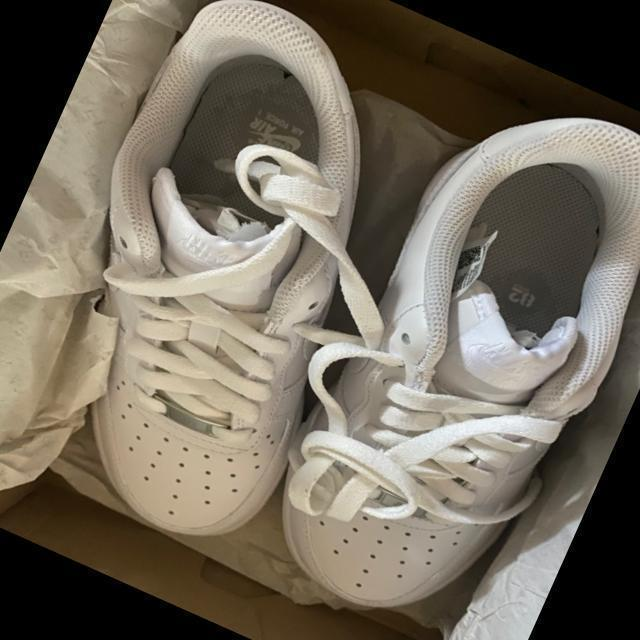nike original air force: (0, 0, 459, 564), (233, 49, 640, 640)
